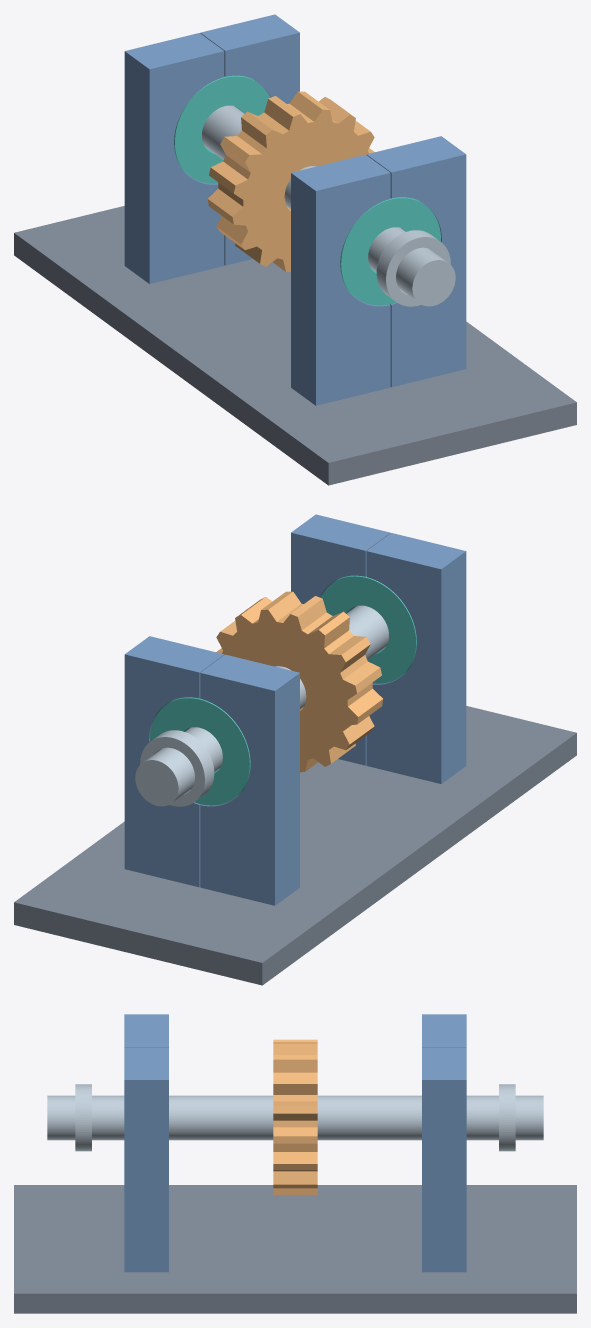
Rendered from assembly.glb.
The picture shows the model from 3 angles, top to bottom: view 1: azimuth 30°, elevation 25°; view 2: azimuth 150°, elevation 25°; view 3: azimuth 270°, elevation 25°; orthographic projection. The views are drawn at different scales.
Visible parts, largest first — view 1: base, rear_housing_left, front_housing_left, gear, rear_housing_right, front_housing_right, shaft, rear_bearing, front_bearing, rear_retainer; view 2: base, front_housing_left, rear_housing_left, gear, front_housing_right, rear_housing_right, shaft, front_bearing, rear_bearing, front_retainer; view 3: base, shaft, front_housing_right, rear_housing_right, gear, front_housing_left, rear_housing_left, front_retainer, rear_retainer.
Part boxes in pixels (left/top/right/bottom): base: left=14, top=206, right=576, bottom=485; rear_housing_left: left=291, top=154, right=390, bottom=405; front_housing_left: left=124, top=33, right=224, bottom=283; gear: left=208, top=91, right=374, bottom=272; rear_housing_right: left=366, top=136, right=466, bottom=387; front_housing_right: left=200, top=14, right=299, bottom=265; shaft: left=202, top=105, right=455, bottom=306; rear_bearing: left=340, top=197, right=440, bottom=305; front_bearing: left=174, top=75, right=270, bottom=183; rear_retainer: left=376, top=230, right=450, bottom=306; base: left=14, top=706, right=576, bottom=985; front_housing_left: left=200, top=654, right=299, bottom=905; rear_housing_left: left=366, top=533, right=466, bottom=783; gear: left=216, top=591, right=382, bottom=772; front_housing_right: left=124, top=636, right=224, bottom=887; rear_housing_right: left=291, top=514, right=390, bottom=765; shaft: left=135, top=605, right=388, bottom=806; front_bearing: left=150, top=697, right=250, bottom=805; rear_bearing: left=320, top=575, right=416, bottom=683; front_retainer: left=140, top=730, right=214, bottom=806; base: left=14, top=1185, right=576, bottom=1313; shaft: left=47, top=1095, right=543, bottom=1140; front_housing_right: left=422, top=1047, right=466, bottom=1272; rear_housing_right: left=124, top=1047, right=168, bottom=1272; gear: left=273, top=1039, right=317, bottom=1195; front_housing_left: left=422, top=1014, right=466, bottom=1047; rear_housing_left: left=124, top=1014, right=168, bottom=1047; front_retainer: left=499, top=1084, right=515, bottom=1151; rear_retainer: left=75, top=1084, right=91, bottom=1151.
Size of the model in its own units: 0.0417 by 0.0381 by 0.0914.
